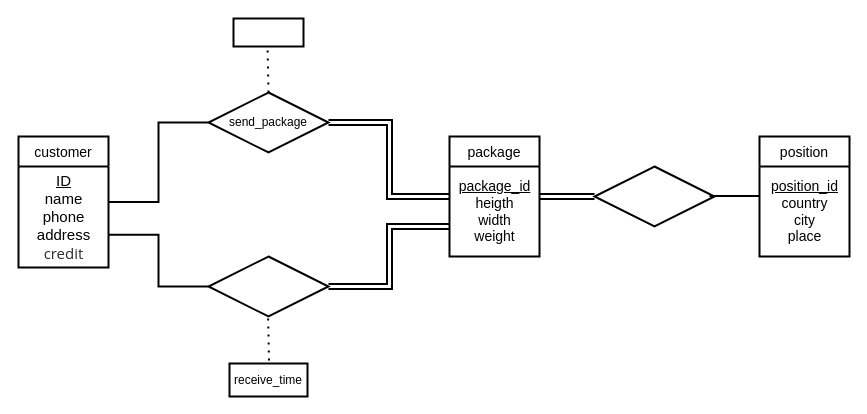
Image size: 867x414. Some labels were removed from this diagram. Here are the shapes that lost their labels. From the top down, the centre of each, then its label:
At [268,32]: "send_time".
At [654,196]: "package_position".
At [268,286]: "receive_package".
